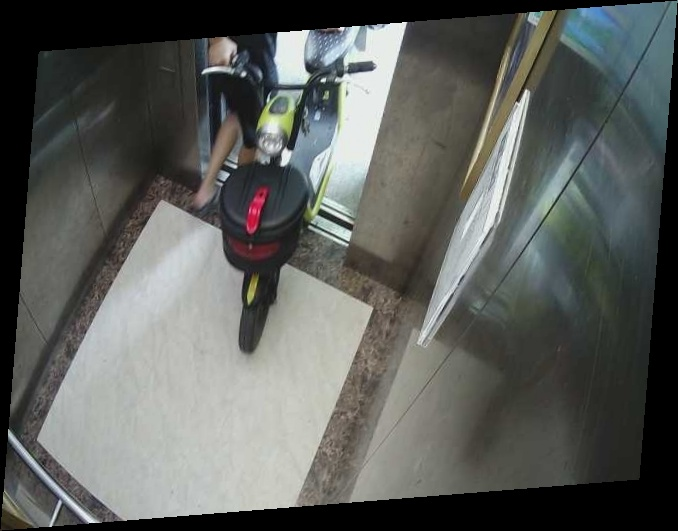electromobile: (164, 37, 383, 361)
